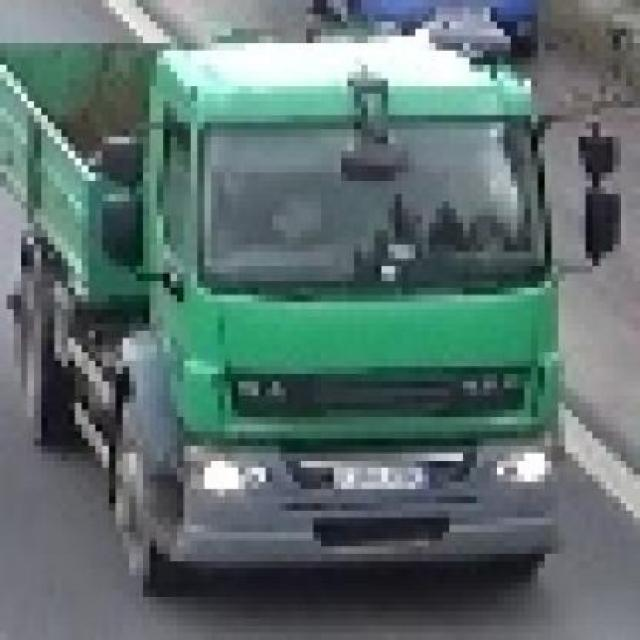truck: (1, 1, 613, 598)
